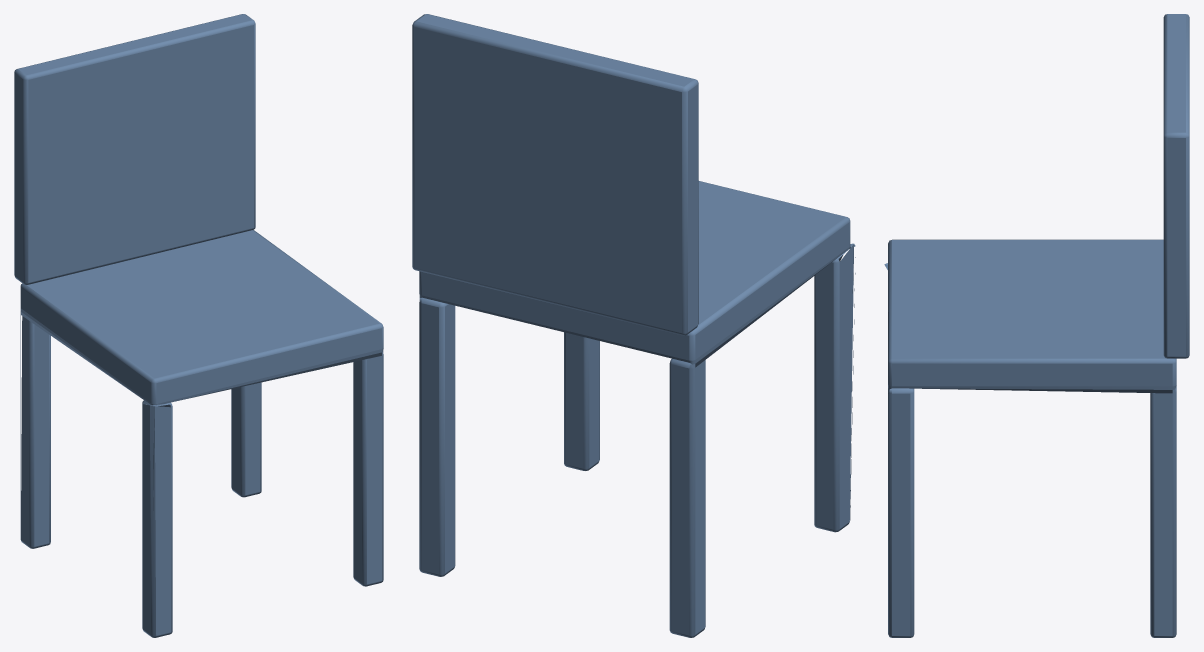
The model's file is GheBanGiay.glb.
3 views of the same model, side by side, from view 1: azimuth 30°, elevation 25°; view 2: azimuth 150°, elevation 25°; view 3: azimuth 270°, elevation 25° (orthographic). The views are drawn at different scales.
Visible parts, largest first — view 1: GheBanGiay; view 2: GheBanGiay; view 3: GheBanGiay.
Boxes of the visible parts, x1=… form: GheBanGiay: x1=14, y1=14, x2=383, y2=637; GheBanGiay: x1=412, y1=14, x2=855, y2=637; GheBanGiay: x1=884, y1=14, x2=1189, y2=637.
Size of the model in its own units: 0.446 by 0.85 by 0.466.
